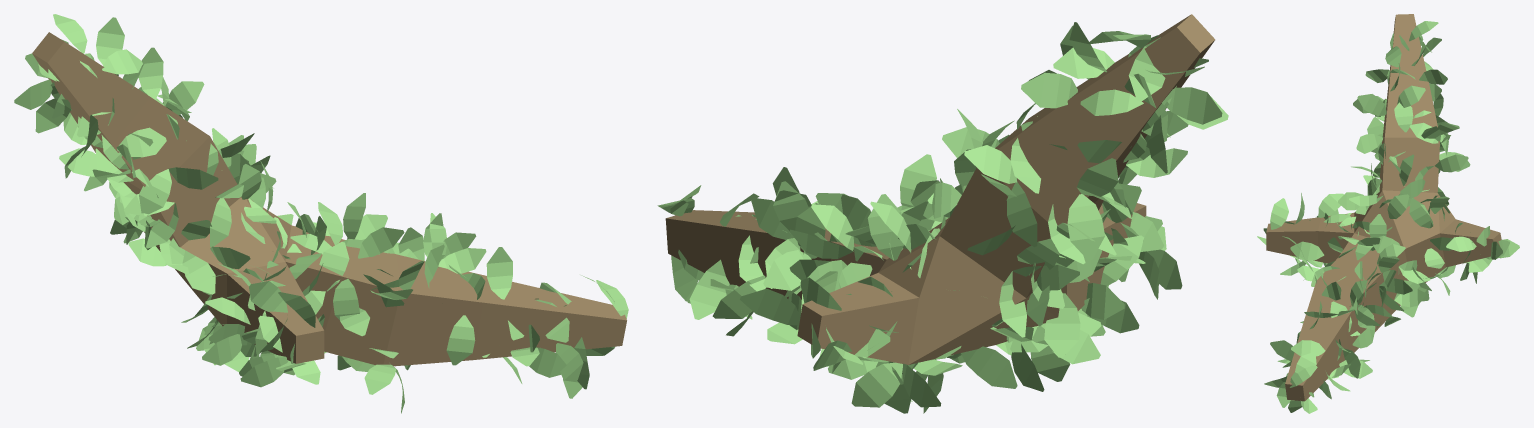
File: bridge03.fbx
3 views of the same model, side by side, from view 1: azimuth 30°, elevation 25°; view 2: azimuth 150°, elevation 25°; view 3: azimuth 270°, elevation 25° (orthographic). The views are drawn at different scales.
Parts seen in each view (by area): view 1: Tree8, Tree8|leaf|Dupli|196, Tree8|leaf|Dupli|114, Tree8|leaf|Dupli|97, Tree8|leaf|Dupli|45, Tree8|leaf|Dupli|117, Tree8|leaf|Dupli|149, Tree8|leaf|Dupli|251, Tree8|leaf|Dupli|193, Tree8|leaf|Dupli|57, Tree8|leaf|Dupli|2, Tree8|leaf|Dupli|170 (+23 smaller); view 2: Tree8, Tree8|leaf|Dupli|122, Tree8|leaf|Dupli|69, Tree8|leaf|Dupli|236, Tree8|leaf|Dupli|66, Tree8|leaf|Dupli|36, Tree8|leaf|Dupli|256, Tree8|leaf|Dupli|61, Tree8|leaf|Dupli|221, Tree8|leaf|Dupli|73, Tree8|leaf|Dupli|127, Tree8|leaf|Dupli|6 (+46 smaller); view 3: Tree8, Tree8|leaf|Dupli|234, Tree8|leaf|Dupli|116, Tree8|leaf|Dupli|120, Tree8|leaf|Dupli|24, Tree8|leaf|Dupli|76, Tree8|leaf|Dupli|242, Tree8|leaf|Dupli|255, Tree8|leaf|Dupli|217, Tree8|leaf|Dupli|219, Tree8|leaf|Dupli|26, Tree8|leaf|Dupli|282 (+26 smaller).
Part boxes in pixels (x1,y1,x2,y2): Tree8: [32, 32, 626, 366]; Tree8|leaf|Dupli|196: [486, 247, 512, 299]; Tree8|leaf|Dupli|114: [446, 315, 475, 365]; Tree8|leaf|Dupli|97: [139, 169, 171, 214]; Tree8|leaf|Dupli|45: [182, 250, 215, 294]; Tree8|leaf|Dupli|117: [138, 47, 163, 99]; Tree8|leaf|Dupli|149: [96, 17, 124, 65]; Tree8|leaf|Dupli|251: [358, 227, 404, 258]; Tree8|leaf|Dupli|193: [249, 281, 287, 312]; Tree8|leaf|Dupli|57: [117, 127, 166, 157]; Tree8|leaf|Dupli|2: [240, 357, 288, 387]; Tree8|leaf|Dupli|170: [438, 248, 486, 273]; Tree8: [665, 14, 1215, 364]; Tree8|leaf|Dupli|122: [1067, 194, 1104, 260]; Tree8|leaf|Dupli|69: [851, 362, 902, 407]; Tree8|leaf|Dupli|236: [1162, 87, 1222, 124]; Tree8|leaf|Dupli|66: [961, 346, 1017, 388]; Tree8|leaf|Dupli|36: [1021, 72, 1077, 108]; Tree8|leaf|Dupli|256: [1044, 293, 1080, 357]; Tree8|leaf|Dupli|61: [740, 288, 800, 325]; Tree8|leaf|Dupli|221: [689, 259, 729, 319]; Tree8|leaf|Dupli|73: [1006, 182, 1037, 247]; Tree8|leaf|Dupli|127: [964, 145, 1017, 183]; Tree8|leaf|Dupli|6: [1080, 89, 1143, 115]; Tree8: [1266, 14, 1501, 401]; Tree8|leaf|Dupli|234: [1290, 241, 1324, 260]; Tree8|leaf|Dupli|116: [1357, 94, 1386, 116]; Tree8|leaf|Dupli|120: [1270, 198, 1288, 229]; Tree8|leaf|Dupli|24: [1409, 198, 1431, 228]; Tree8|leaf|Dupli|76: [1397, 85, 1425, 107]; Tree8|leaf|Dupli|242: [1435, 154, 1468, 172]; Tree8|leaf|Dupli|255: [1318, 193, 1343, 217]; Tree8|leaf|Dupli|217: [1394, 102, 1413, 132]; Tree8|leaf|Dupli|219: [1291, 340, 1325, 356]; Tree8|leaf|Dupli|26: [1387, 194, 1409, 218]; Tree8|leaf|Dupli|282: [1394, 289, 1425, 307].
Size of the model in its own units: 580 by 424 by 385.
